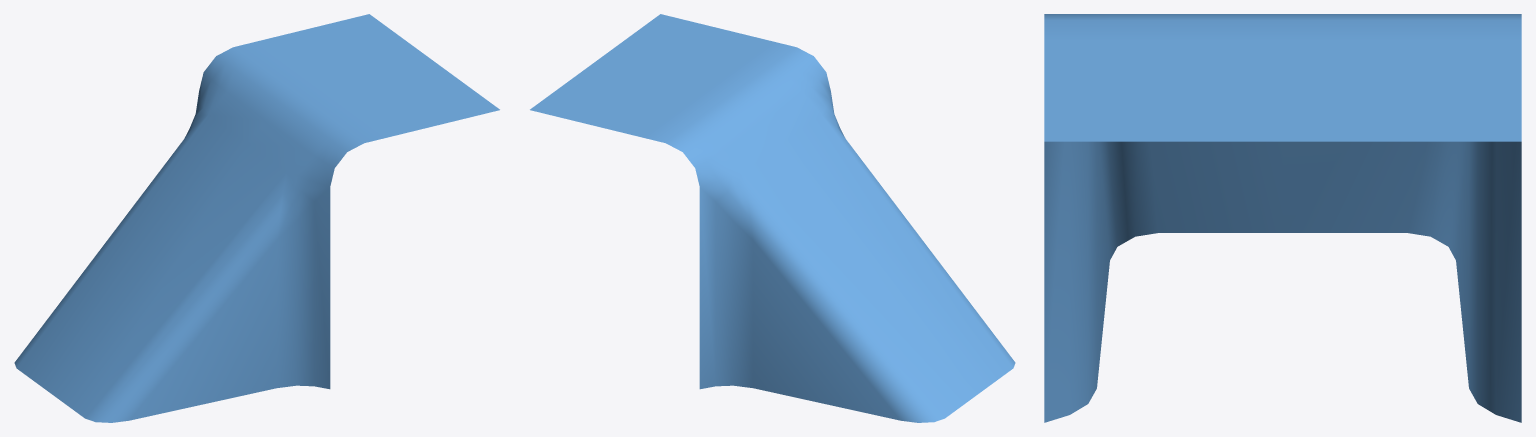
File: BaseBlock_EdgeRamp_Mesh.fbx
3 renders of one model, left to right at view 1: azimuth 30°, elevation 25°; view 2: azimuth 150°, elevation 25°; view 3: azimuth 270°, elevation 25°, orthographic. The views are drawn at different scales.
Visible parts, largest first — view 1: BaseBlock_EdgeRamp; view 2: BaseBlock_EdgeRamp; view 3: BaseBlock_EdgeRamp.
Part boxes in pixels (x1,y1,x2,y2): BaseBlock_EdgeRamp: (14, 14, 499, 422); BaseBlock_EdgeRamp: (530, 14, 1015, 422); BaseBlock_EdgeRamp: (1044, 14, 1521, 422).
Bounding box in the file's own units: 338 × 200 × 200.
